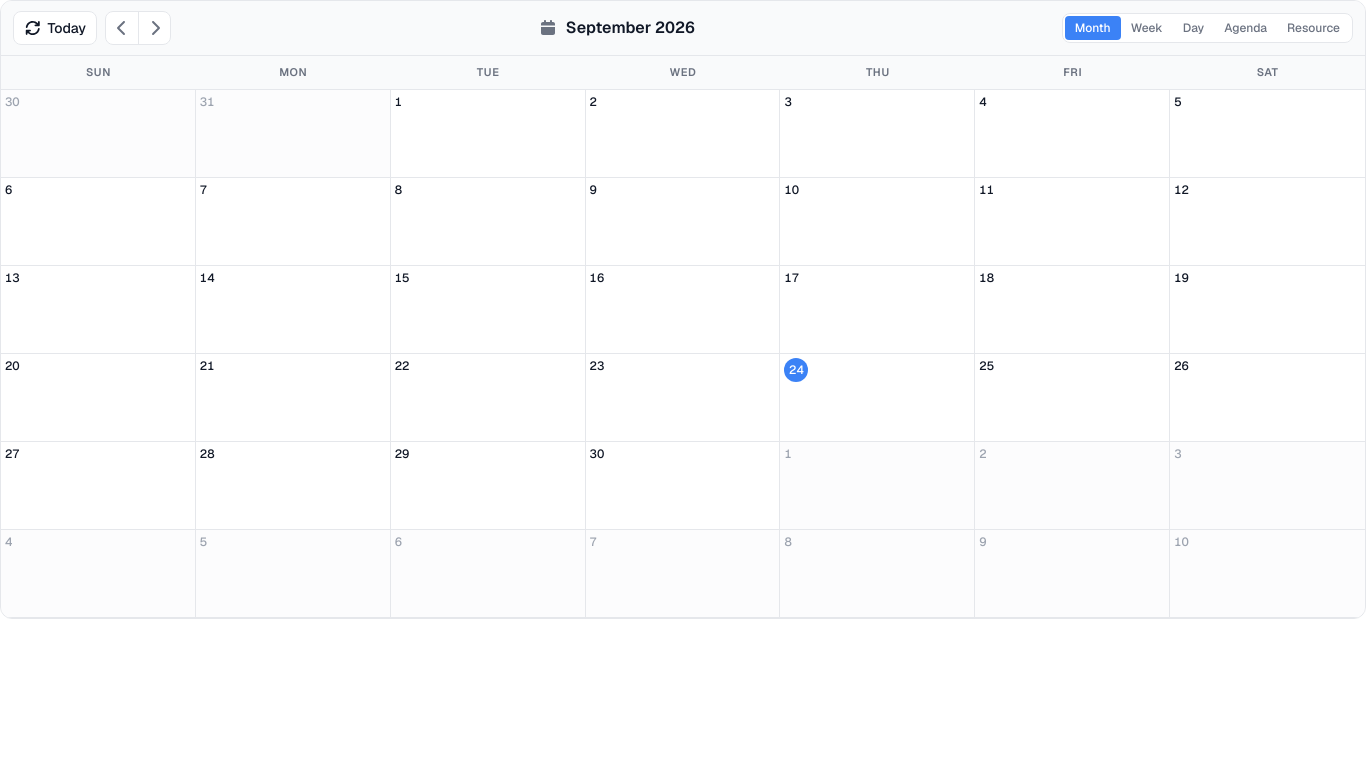
<Calendar /> views › switches views through the tablist
Click the tab "Week". click: (1147, 28)
box: [1121,16,1173,40]
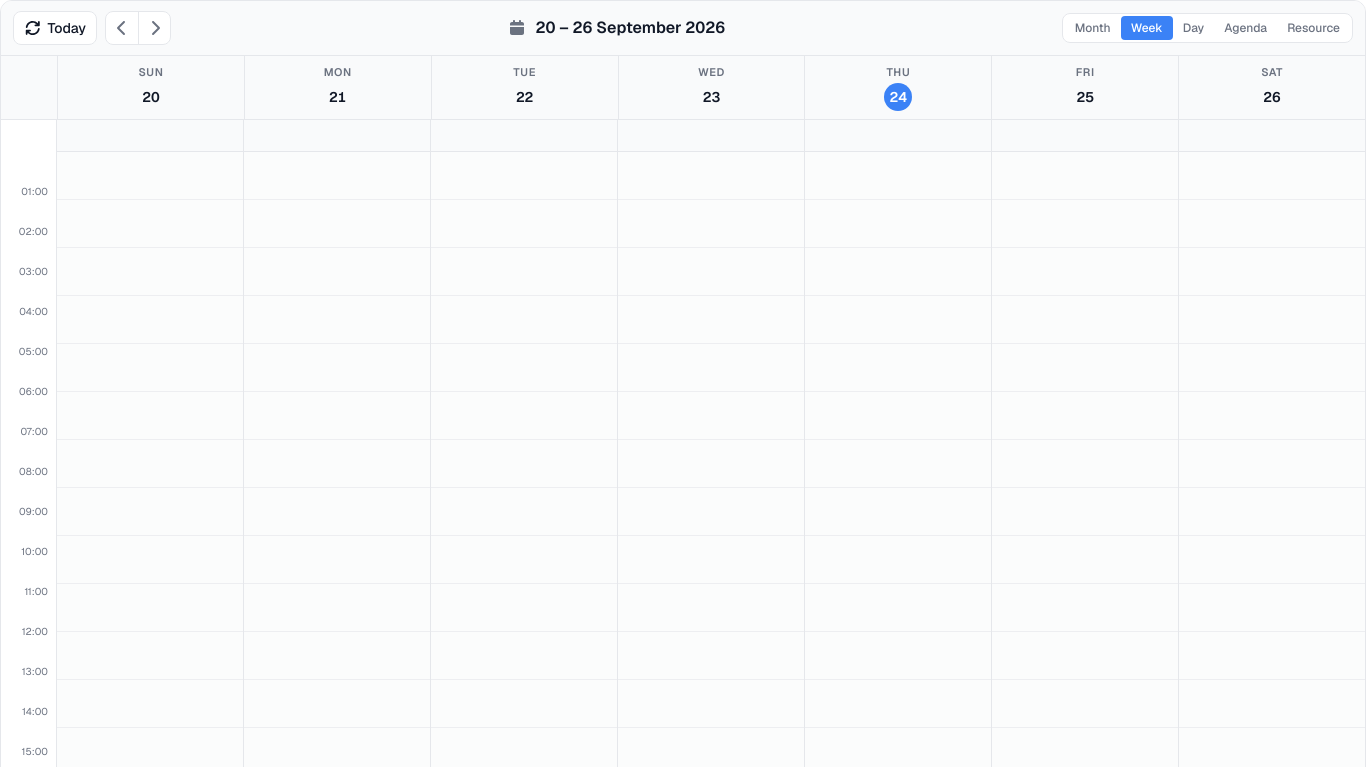
Expected: the heading reads "20 – 26 September 2026", [536,17,725,38]
Click the tab "Day". click: (1193, 28)
box: [1173,16,1214,40]
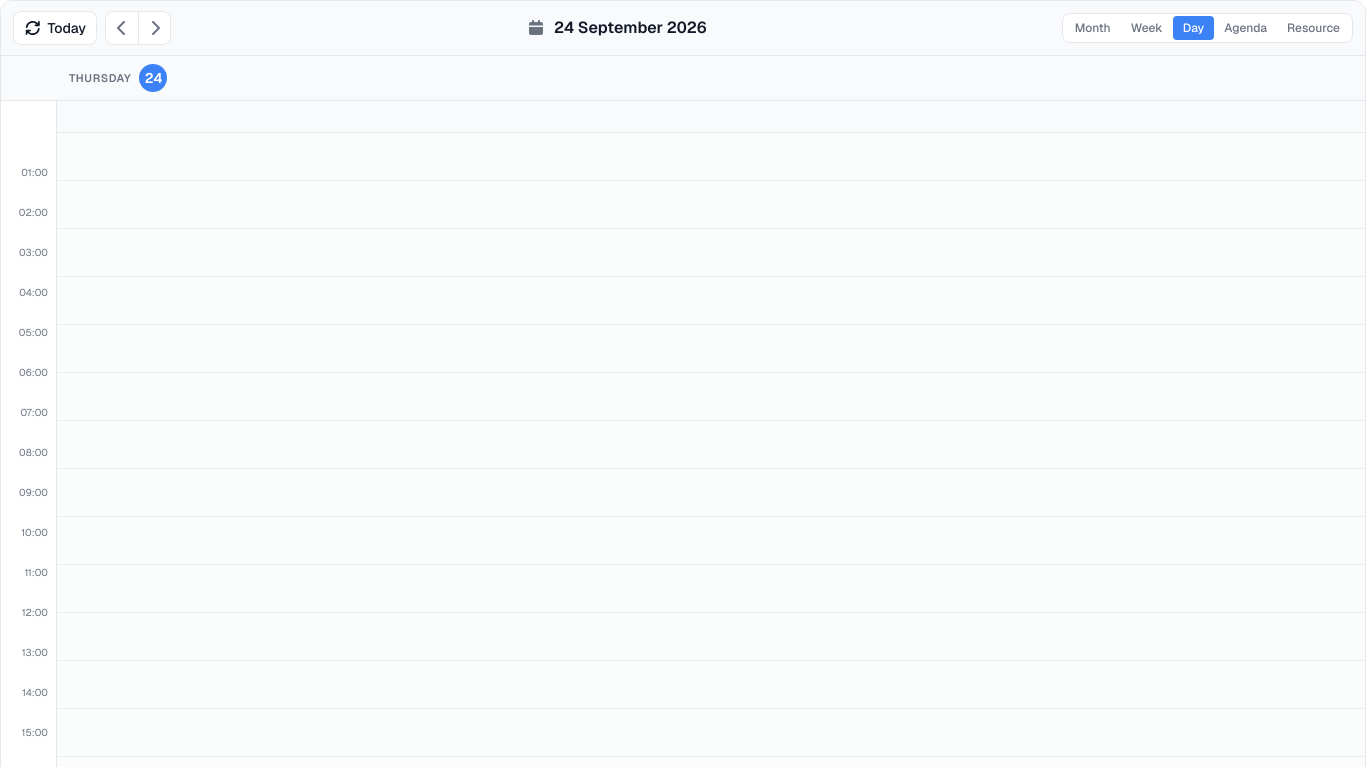
Expected: the heading reads "24 September 2026", [554,17,707,38]
Click the button named "Next". click: (154, 28)
box: [138,12,170,44]
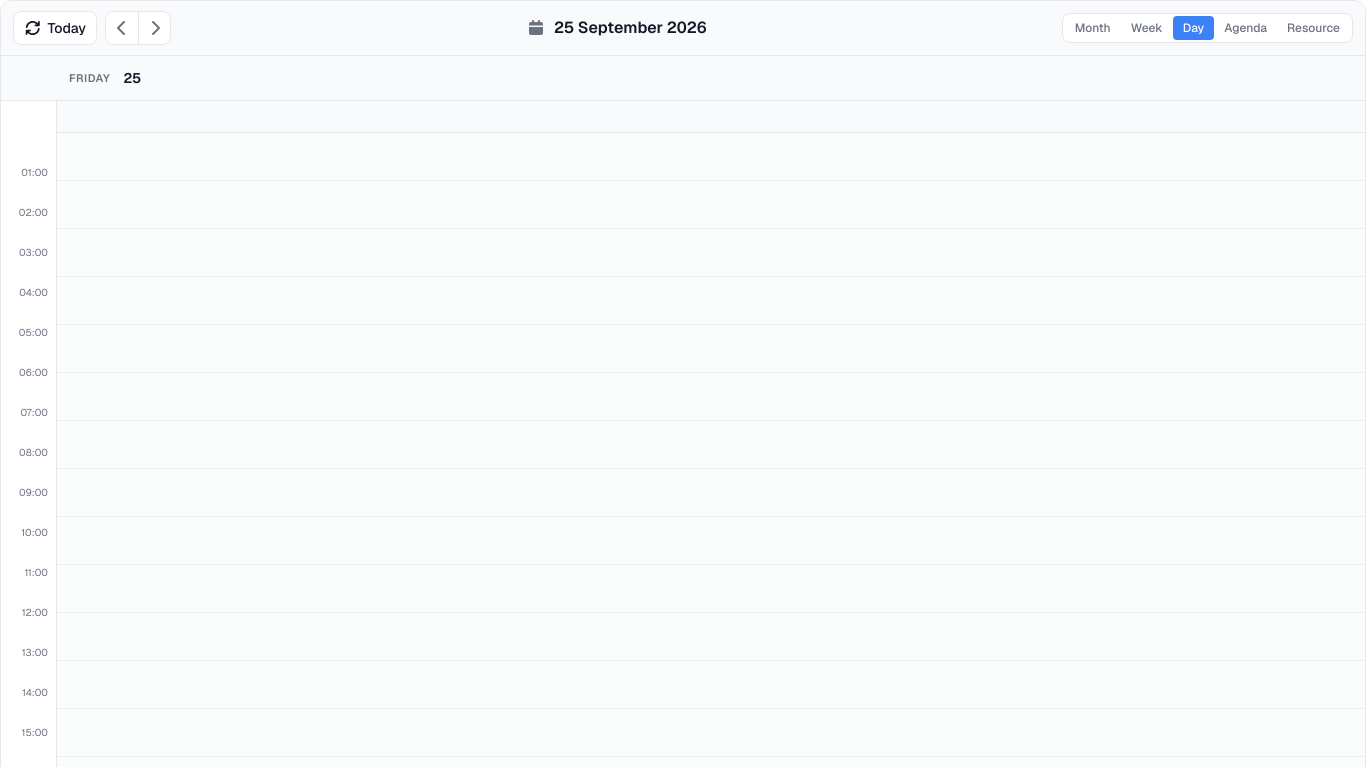
Expected: the heading reads "25 September 2026", [554,17,707,38]
